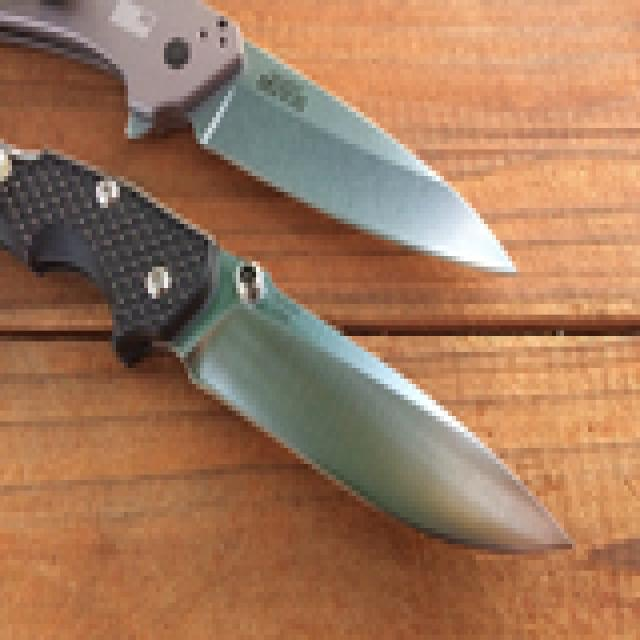Knife: (34, 0, 579, 574)
